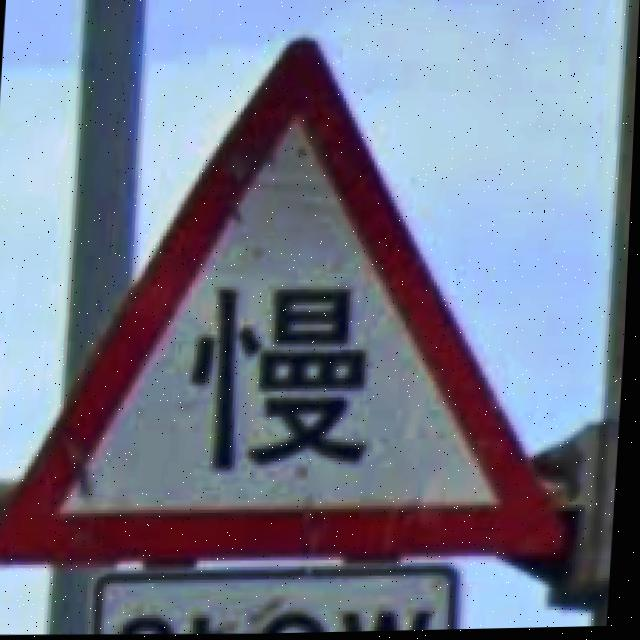slow: (0, 39, 573, 561)
